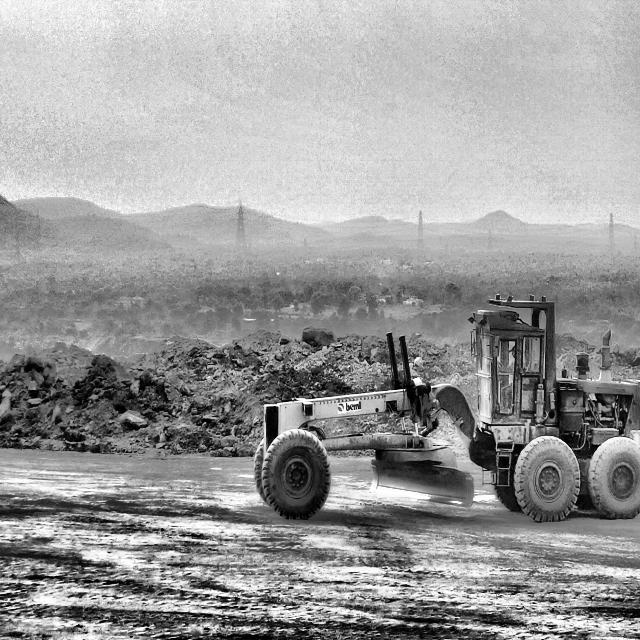buldozerpayloadergrader: (255, 297, 640, 520)
